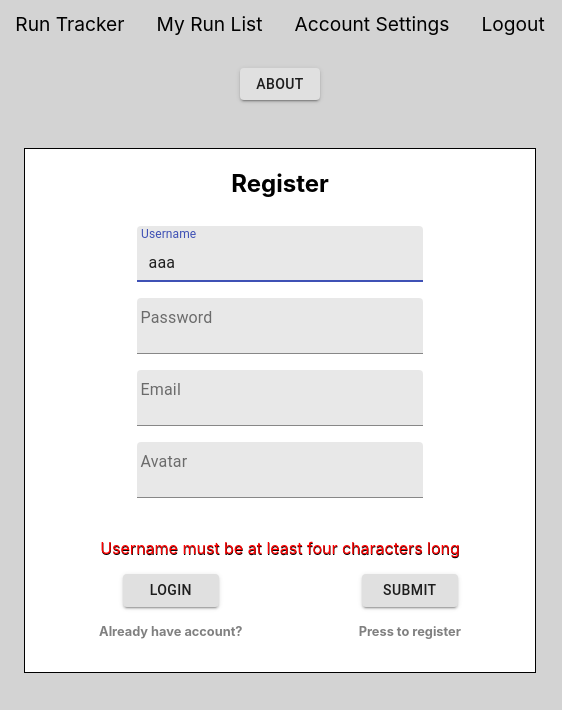
Scenario: Registration errors › Show password error
Step 1. Type "aaa" into the field named "password" next to "Password" → (281, 326), box [137,298,424,354]
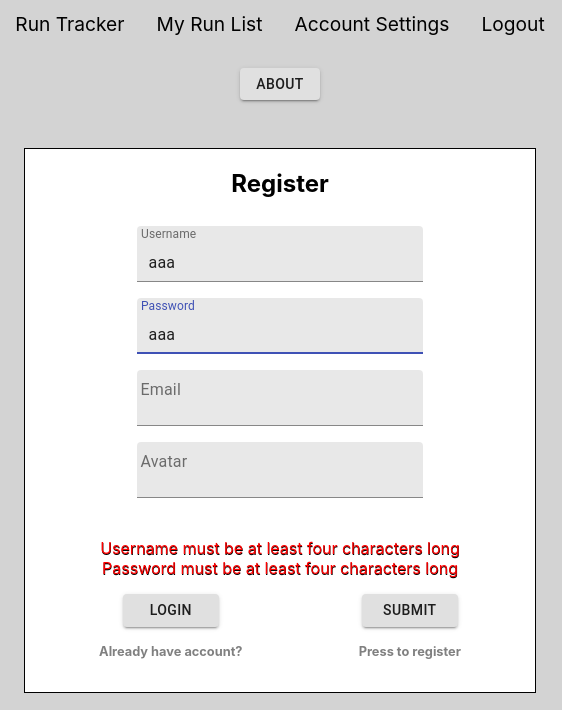
Expected: the text "Password must be at least four characters long" is shown, [102,558,458,578]
